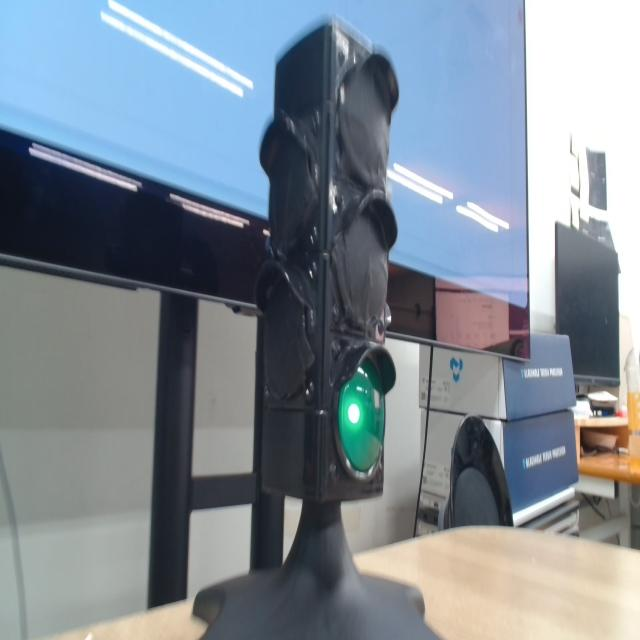green_light: (338, 360, 384, 472)
